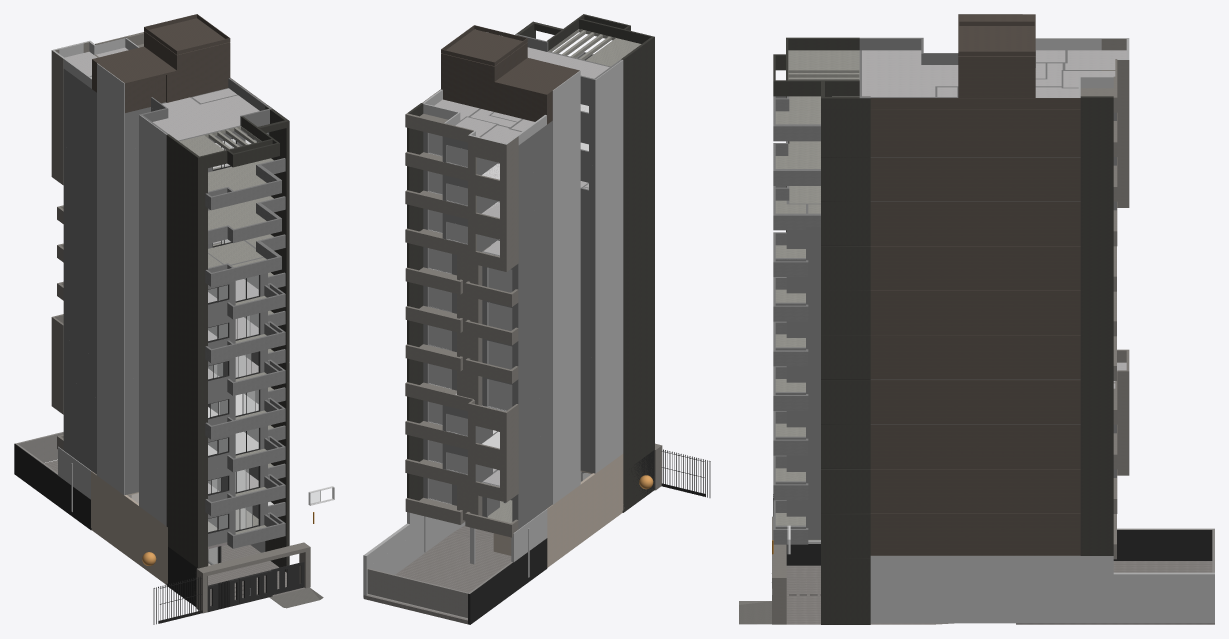
Rendered from achive-tower.glb.
The picture shows the model from 3 angles, left to right: view 1: azimuth 30°, elevation 25°; view 2: azimuth 150°, elevation 25°; view 3: azimuth 270°, elevation 25°; orthographic projection. The views are drawn at different scales.
Parts seen in each view (by area): view 1: [27744].001, Grupo#60 [80271].001, Grupo#60 [80270].001, Obj_modelo exterior.001, Grupo#173 [58108].001, [27213].001, Grupo#10 [10041].001, [926].001, Obj_ [926].001, Obj_ [8360].001, Obj_ [926]_2.001, Obj_ [926]_3.001 (+34 smaller); view 2: [27744].001, Grupo#60 [80271].001, Grupo#60 [80270].001, Obj_modelo exterior.001, Grupo#294 [48709].001, Grupo#173 [58108].001, [30076].001, Grupo#276 [68870].001, Grupo#288 [17489].001, Grupo#216 [58138].001, Obj_ [3065]_1.001, Grupo#10 [10041].001 (+33 smaller); view 3: [57058].001, [27213].001, Grupo#307 [47196].001, Grupo#276 [68870].001, Grupo#10 [10041].001, Obj_modelo exterior.001, [30076].001, Grupo#59 [26903].001, [27744].001, Grupo#294 [48709].001, Grupo#216 [116170].001, Grupo#288 [17489].001 (+26 smaller).
Part boxes in pixels (x1,y1,x2,y2): [27744].001: (166,116,279,607); Grupo#60 [80271].001: (97,63,124,495); Grupo#60 [80270].001: (139,114,166,525); Obj_modelo exterior.001: (92,14,230,112); Grupo#173 [58108].001: (91,471,167,583); [27213].001: (258,105,289,572); Grupo#10 [10041].001: (65,47,259,140); [926].001: (63,183,267,317); Obj_ [926].001: (63,221,267,348); Obj_ [8360].001: (63,374,267,501); Obj_ [926]_2.001: (63,298,267,425); Obj_ [926]_3.001: (63,412,267,546); [27744].001: (547,14,654,512); Grupo#60 [80271].001: (552,70,580,504); Grupo#60 [80270].001: (595,60,623,473); Obj_modelo exterior.001: (441,25,579,124); Grupo#294 [48709].001: (468,133,518,271); Grupo#173 [58108].001: (493,454,623,565); [30076].001: (363,472,590,624); Grupo#276 [68870].001: (407,103,423,500); Grupo#288 [17489].001: (468,400,518,502); Grupo#216 [58138].001: (367,562,512,618); Obj_ [3065]_1.001: (442,51,610,183); Grupo#10 [10041].001: (434,47,609,143); [57058].001: (870,98,1080,555); [27213].001: (821,81,870,624); Grupo#307 [47196].001: (870,556,1214,623); Grupo#276 [68870].001: (1080,96,1113,555); Grupo#10 [10041].001: (862,50,1126,96); Obj_modelo exterior.001: (958,14,1035,97); [30076].001: (786,561,1214,624); Grupo#59 [26903].001: (1113,530,1212,560); [27744].001: (773,37,859,232); Grupo#294 [48709].001: (1101,39,1129,207); Grupo#216 [116170].001: (1113,572,1214,588); Grupo#288 [17489].001: (1117,349,1129,475).
Size of the model in its own units: 15.35 by 38.65 by 29.
Materials: 26 (13 with a texture image).
